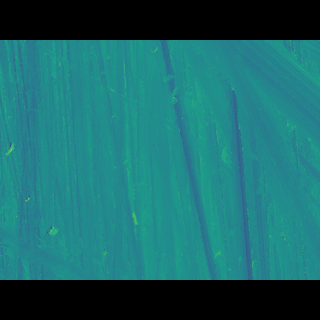Loch: (29, 70, 280, 187), (181, 69, 319, 246), (156, 69, 225, 249)
